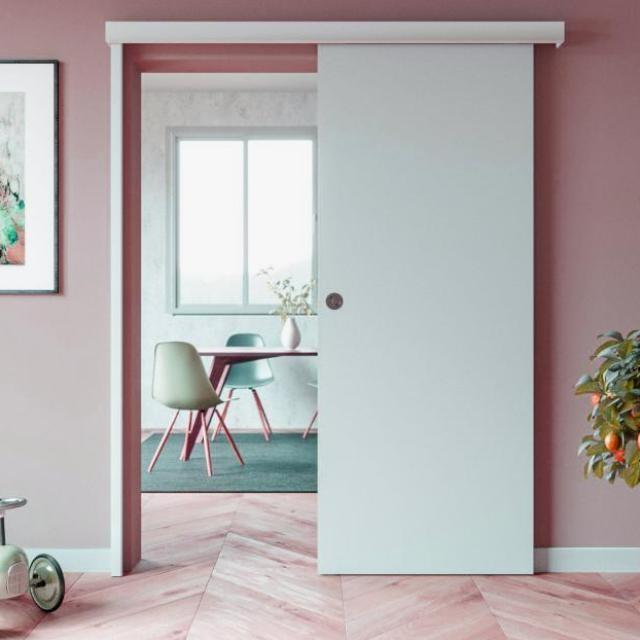door: (314, 42, 536, 575)
